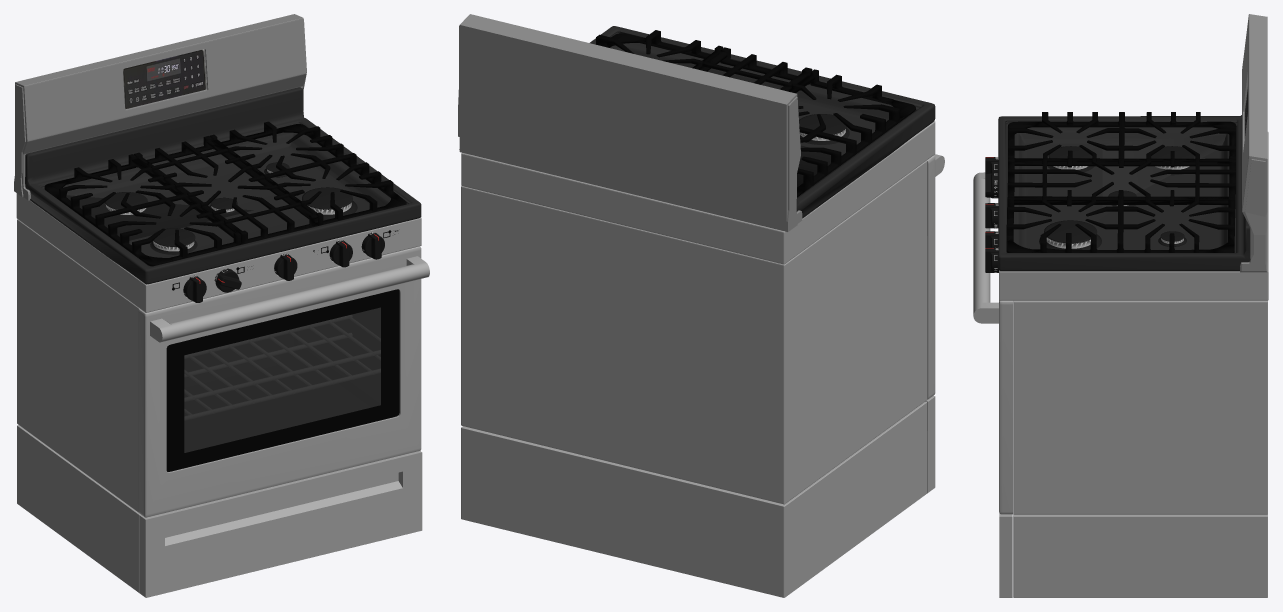
File: ikea_range_with_gas_cooktop.glb
3 views of the same model, side by side, from view 1: azimuth 30°, elevation 25°; view 2: azimuth 150°, elevation 25°; view 3: azimuth 270°, elevation 25° (orthographic). The views are drawn at different scales.
Parts seen in each view (by area): view 1: Text.012_0; view 2: Text.012_0; view 3: Text.012_0.
Part boxes in pixels (box(x1,y1,x2,y2)): Text.012_0: box(14, 14, 429, 597); Text.012_0: box(458, 14, 944, 597); Text.012_0: box(973, 14, 1268, 597).
Bounding box in the file's own units: 0.68 × 0.9755 × 0.5896.
16 materials, 1 textured.
